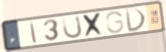3: (42, 19, 60, 43)
D: (124, 7, 147, 33)
G: (105, 10, 126, 34)
I: (29, 21, 38, 44)
U: (61, 14, 84, 40)
X: (81, 11, 106, 39)
